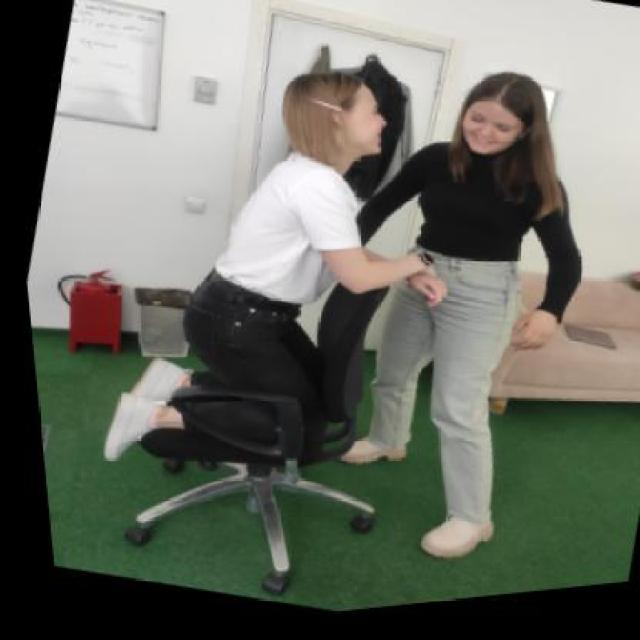chair: (72, 198, 447, 634)
